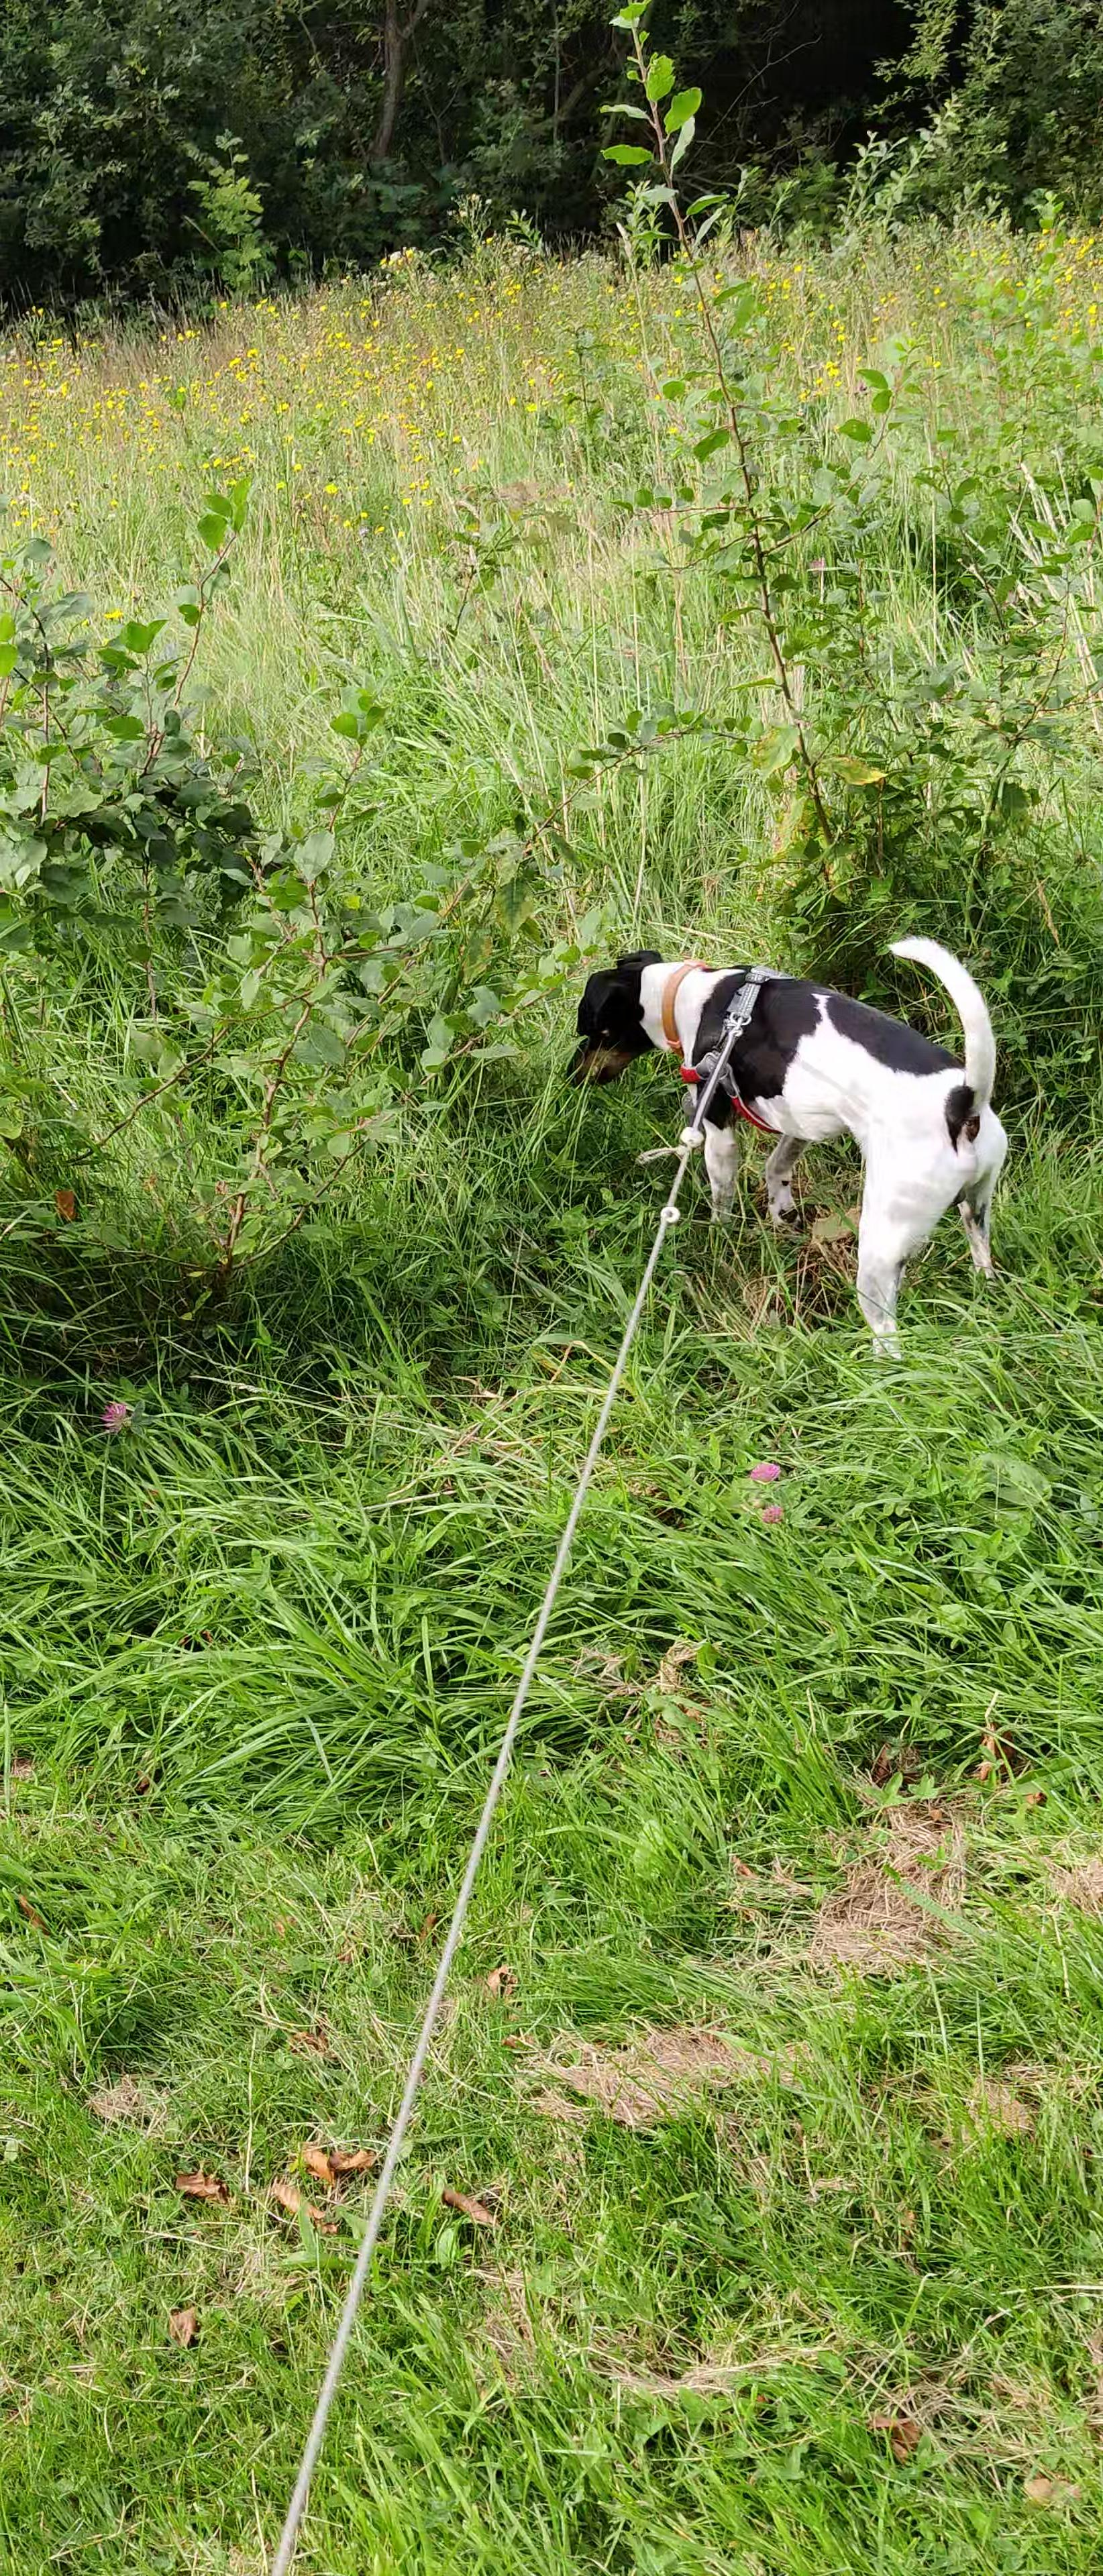Dog: (559, 930, 1019, 1362)
